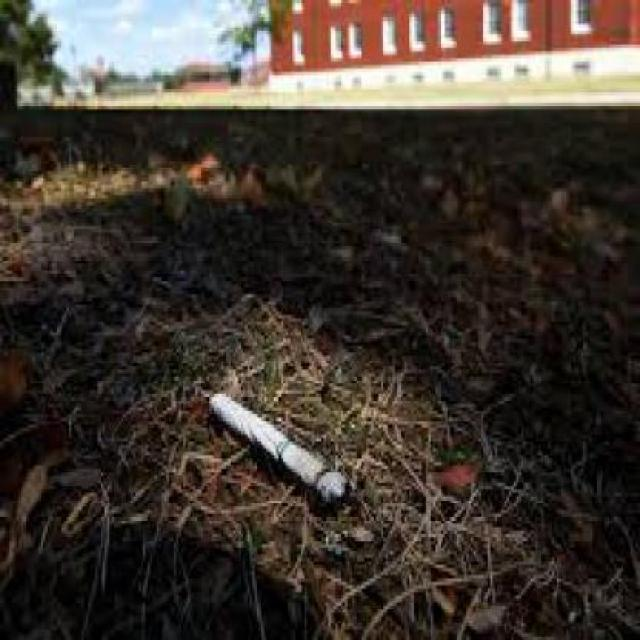cigarette: (191, 362, 357, 510)
